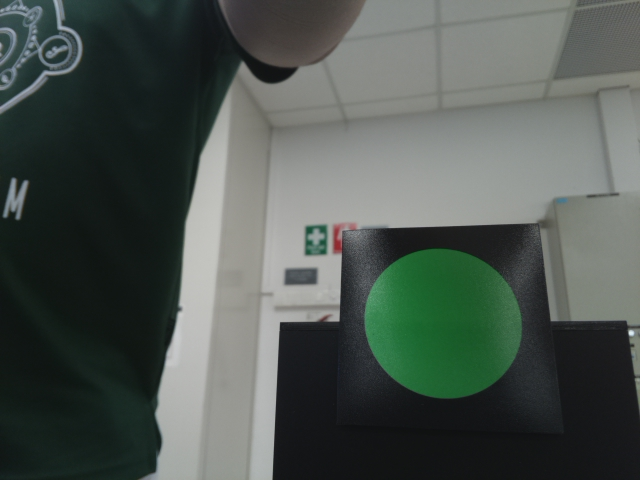go: (354, 243, 535, 410)
